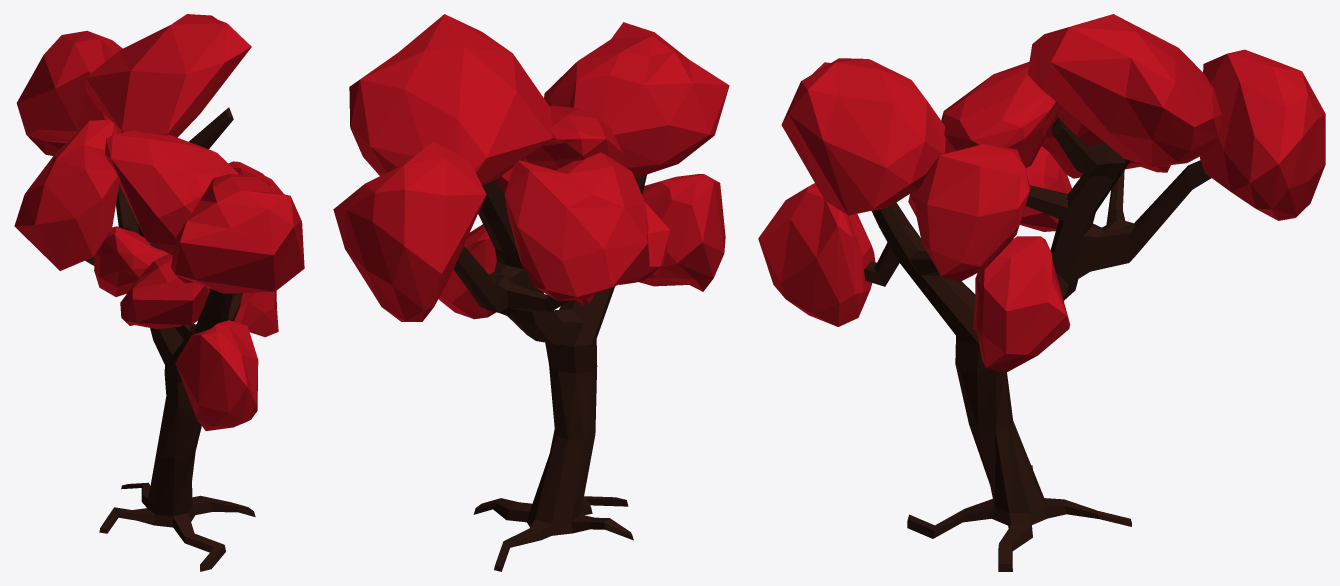
The model's file is t1-purple.obj.
The picture shows the model from 3 angles, left to right: view 1: azimuth 30°, elevation 25°; view 2: azimuth 150°, elevation 25°; view 3: azimuth 270°, elevation 25°; orthographic projection. The views are drawn at different scales.
Visible parts, largest first — view 1: t1-purple_Cylinder.032; view 2: t1-purple_Cylinder.032; view 3: t1-purple_Cylinder.032.
Part boxes in pixels (box(x1,y1,x2,y2)): t1-purple_Cylinder.032: box(14, 14, 304, 571); t1-purple_Cylinder.032: box(333, 14, 729, 571); t1-purple_Cylinder.032: box(758, 14, 1325, 571).
Bounding box in the file's own units: 6.06 × 11.75 × 11.01.
